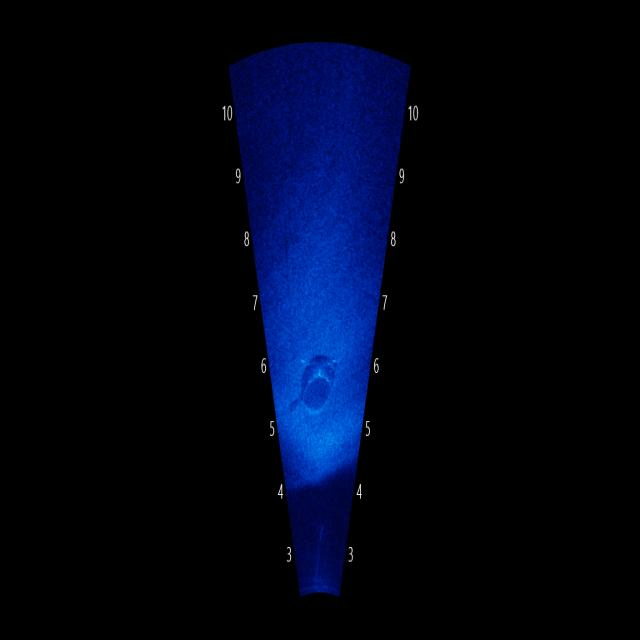circle: (292, 334, 347, 436)
